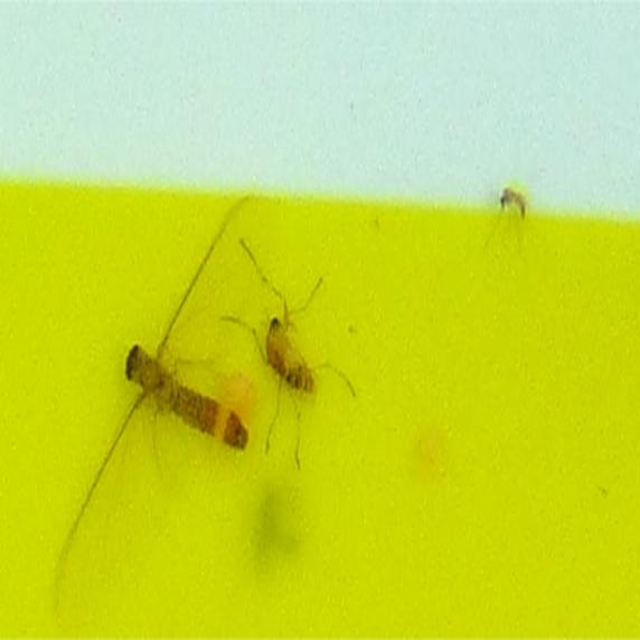Ephemeroptera: (112, 251, 252, 457)
Nematocera: (255, 304, 317, 402), (496, 183, 528, 222)
